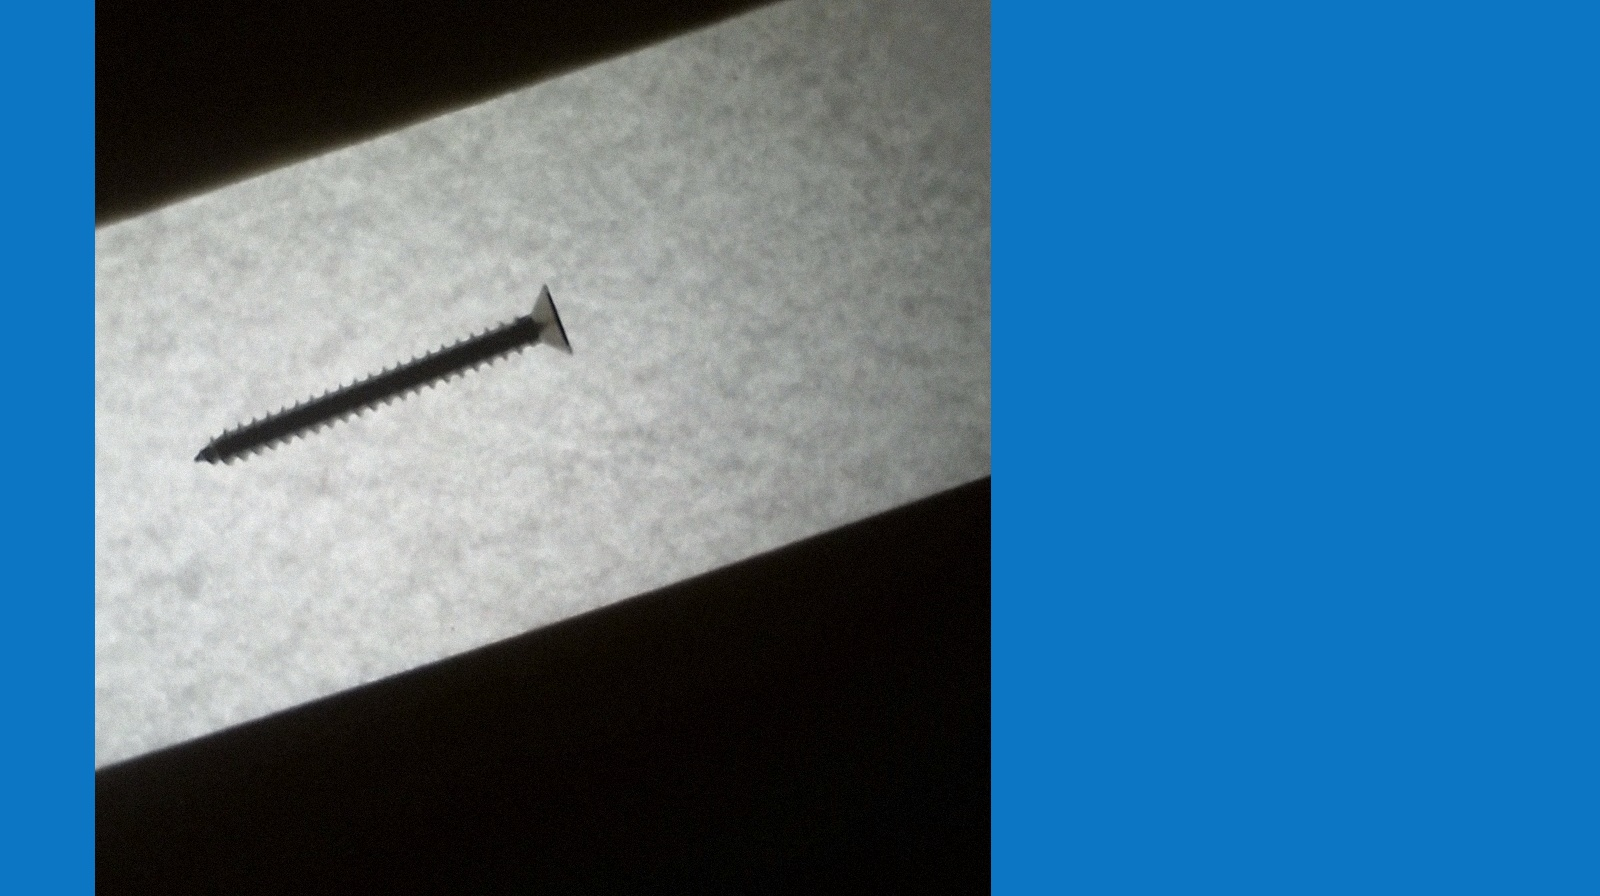S002: (173, 264, 581, 485)
